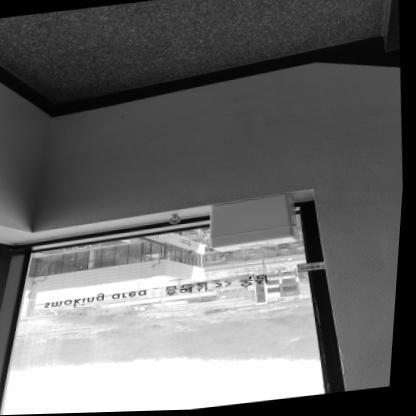DDL: (207, 193, 305, 255)
